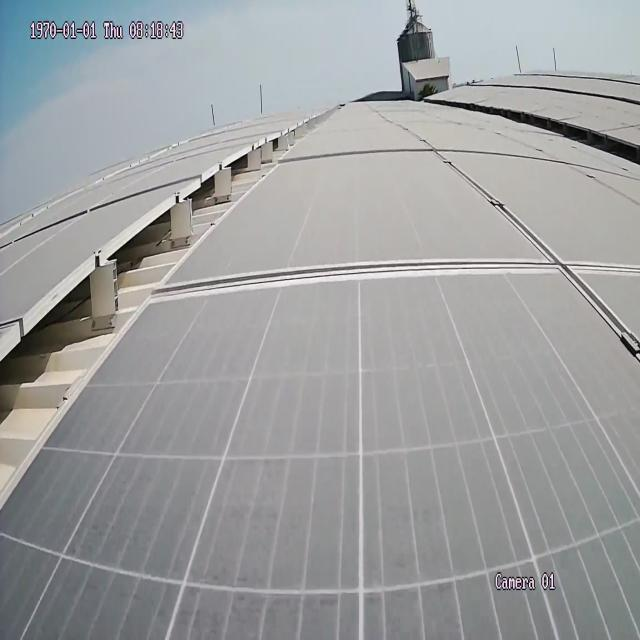interior panel: (178, 161, 640, 366)
outher panel: (1, 108, 331, 506), (457, 101, 638, 164)
